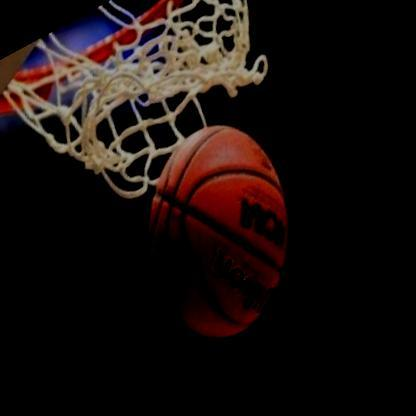basketball: (102, 90, 356, 392)
